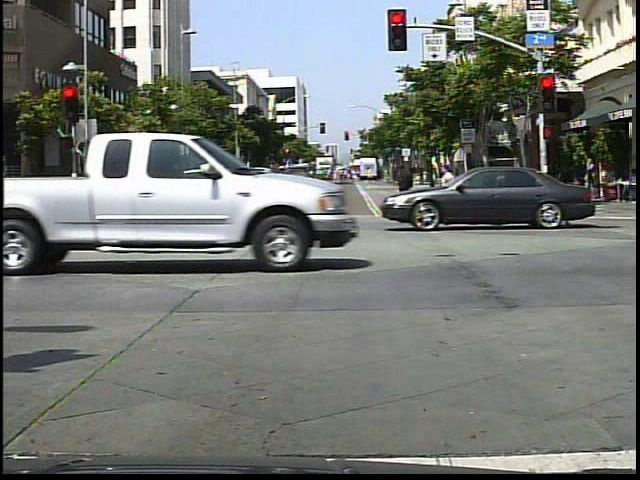person: (436, 159, 468, 223), (160, 166, 193, 225), (391, 163, 420, 224)
